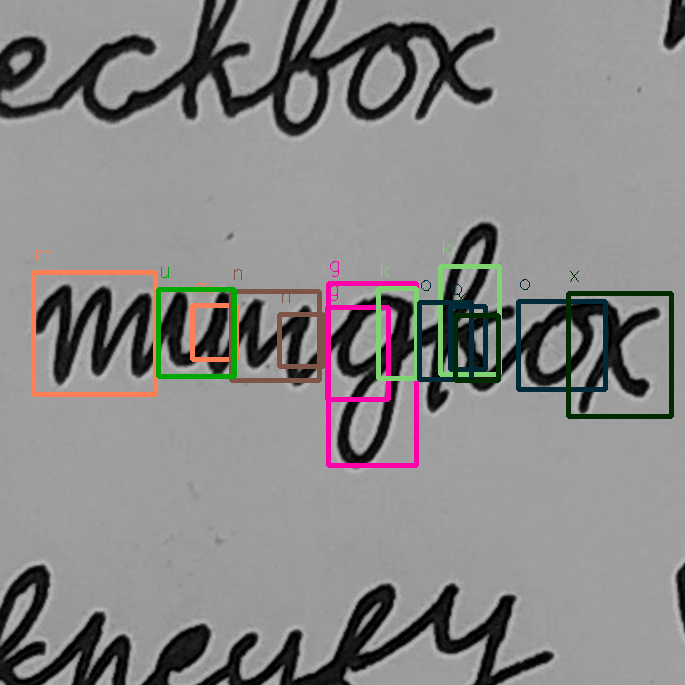g: (328, 289, 417, 472)
k: (421, 218, 519, 417)
m: (44, 277, 155, 389)
n: (237, 293, 318, 389)
o: (522, 298, 597, 390)
u: (157, 283, 235, 380)
x: (574, 292, 664, 419)
